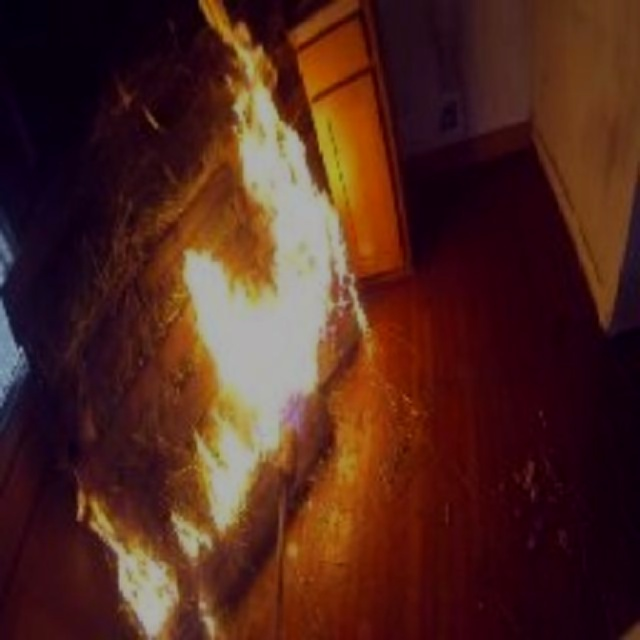fire: (88, 14, 372, 575)
